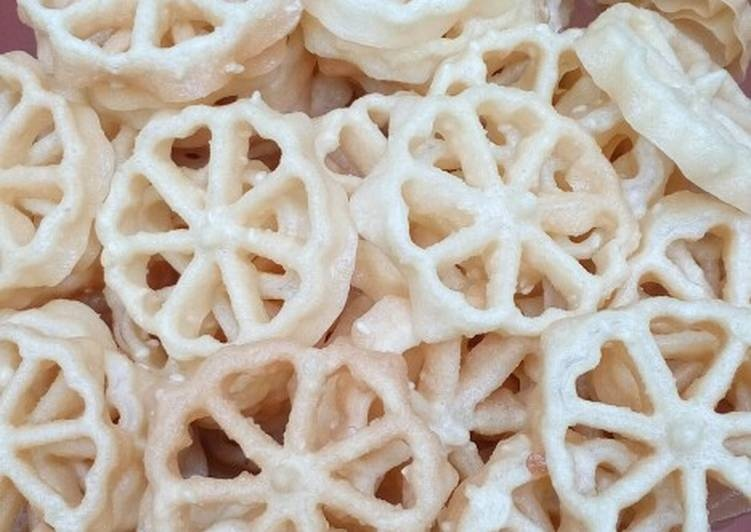kembang_goyang: (91, 92, 356, 359), (366, 75, 618, 333)
